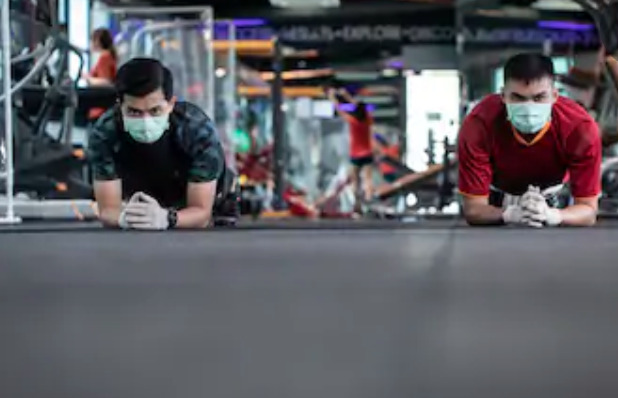Caution: (88, 52, 600, 230)
Good: (92, 54, 381, 230), (333, 54, 600, 229)
